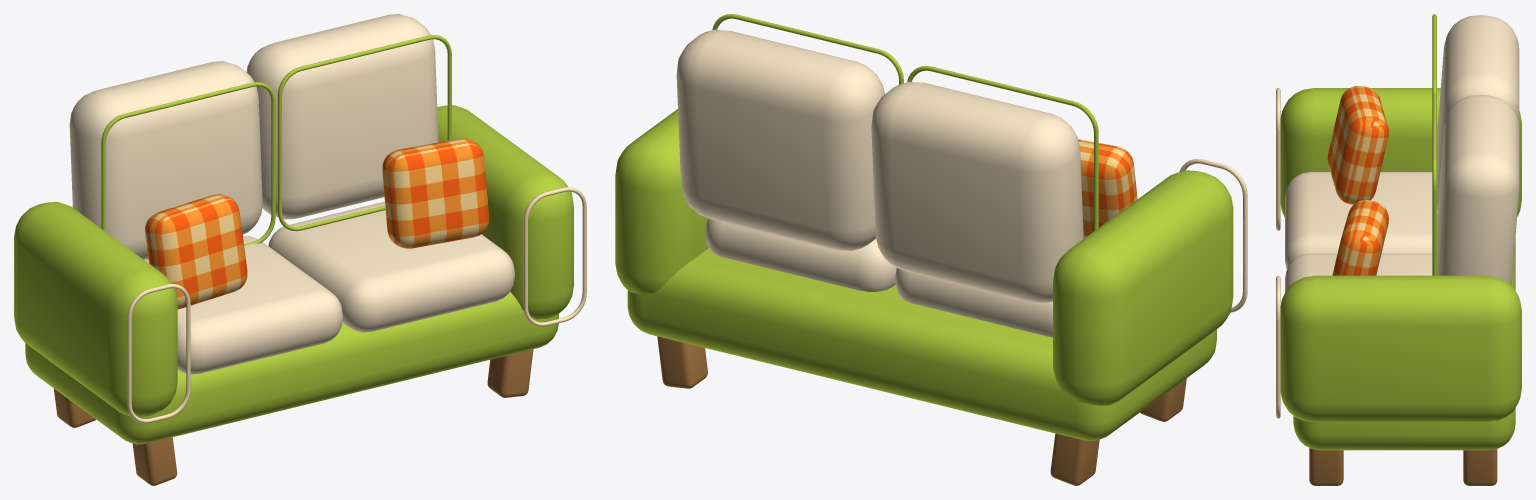
File: easy_couch_10.fbx
3 views of the same model, side by side, from view 1: azimuth 30°, elevation 25°; view 2: azimuth 150°, elevation 25°; view 3: azimuth 270°, elevation 25° (orthographic). The views are drawn at different scales.
Visible parts, largest first — view 1: EC10_LOD0; view 2: EC10_LOD0; view 3: EC10_LOD0.
Boxes of the visible parts, <box> form: EC10_LOD0: <box>14,14,586,485</box>; EC10_LOD0: <box>615,14,1247,485</box>; EC10_LOD0: <box>1276,14,1521,485</box>.
Size of what is drawn, in the model's own units: 2.12 by 1.42 by 1.01.
Materials: 5 (1 with a texture image).
